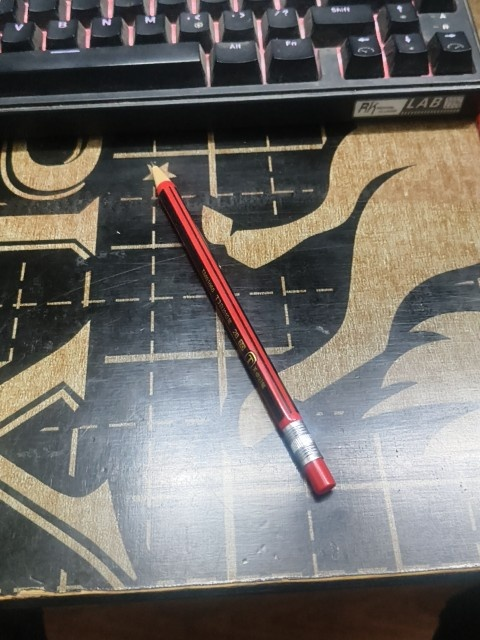pen: (141, 159, 332, 497)
